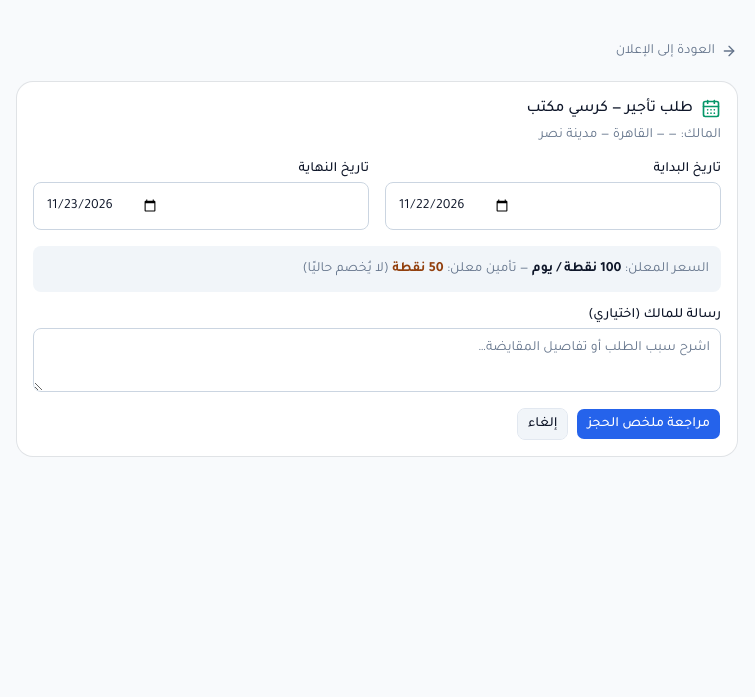
Test case: A5 booking summary (SRS §4.10) › blocks submission until the summary consent box is checked
The width and height of the screenshot is (755, 697).
Later steps or results of the test are not shown.
Check: the text "تاريخ البداية" is shown, box [654, 162, 721, 176]
Click the button "مراجعة ملخص الحجز" at (649, 424), box [576, 408, 721, 440]
(page scrolled)
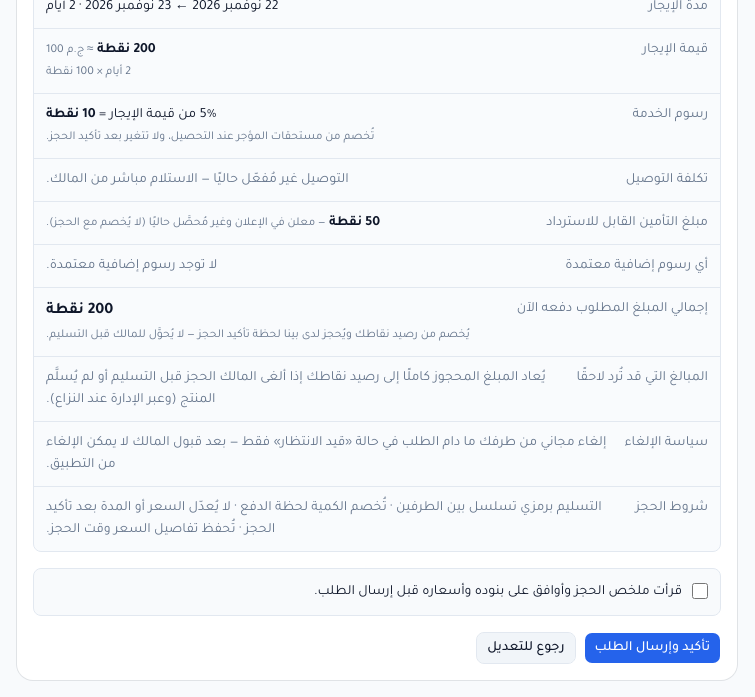
Click the button "تأكيد وإرسال الطلب" at (652, 648), box [584, 632, 721, 664]
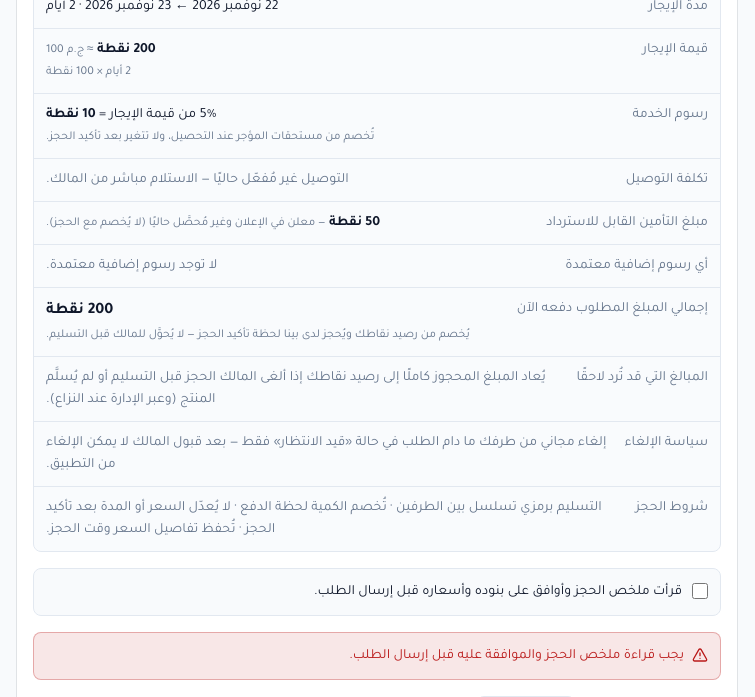
Check: the message reads "يجب قراءة ملخص الحجز والموافقة عليه قبل إرسال الطلب.", box [349, 649, 684, 663]
